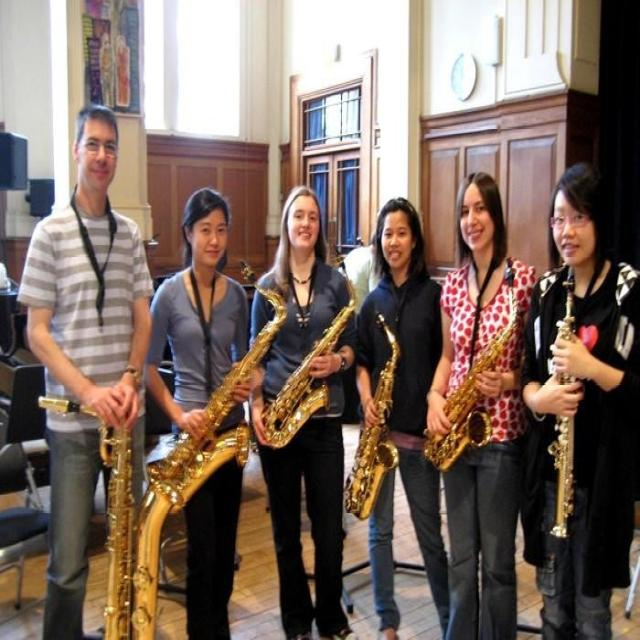saxophone: (143, 257, 289, 513), (31, 399, 185, 636), (419, 255, 524, 476), (258, 245, 364, 452), (336, 306, 407, 526)
